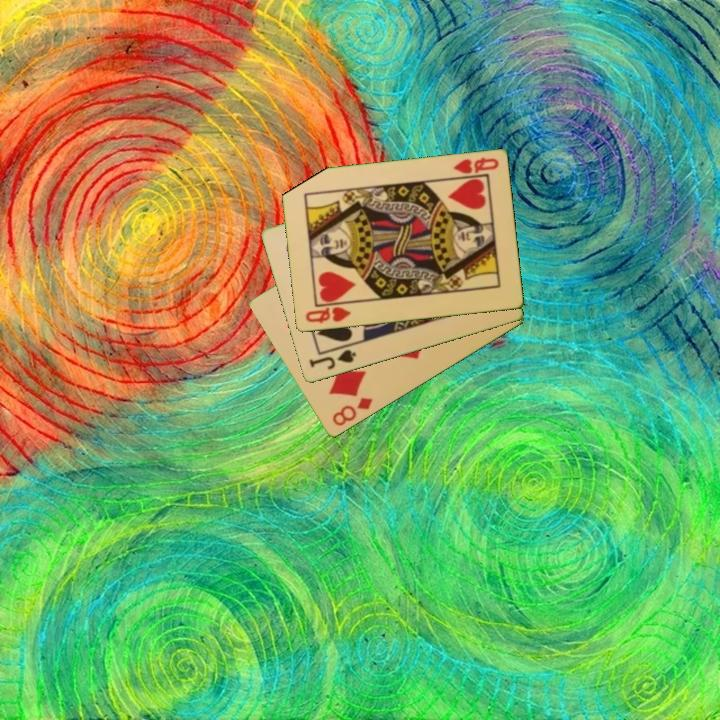8d: (329, 394, 376, 430)
Js: (305, 346, 359, 373)
Qh: (302, 303, 354, 327), (449, 154, 501, 177)
